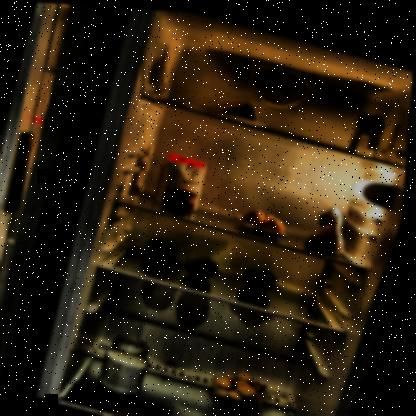apple: (184, 244, 227, 281), (242, 257, 285, 293), (144, 228, 186, 264)
cheese: (204, 89, 262, 120)
corn: (162, 182, 201, 217)
eggs: (239, 201, 292, 234)
heavy_cream: (347, 103, 390, 155)
mushrooms: (210, 360, 283, 412)
